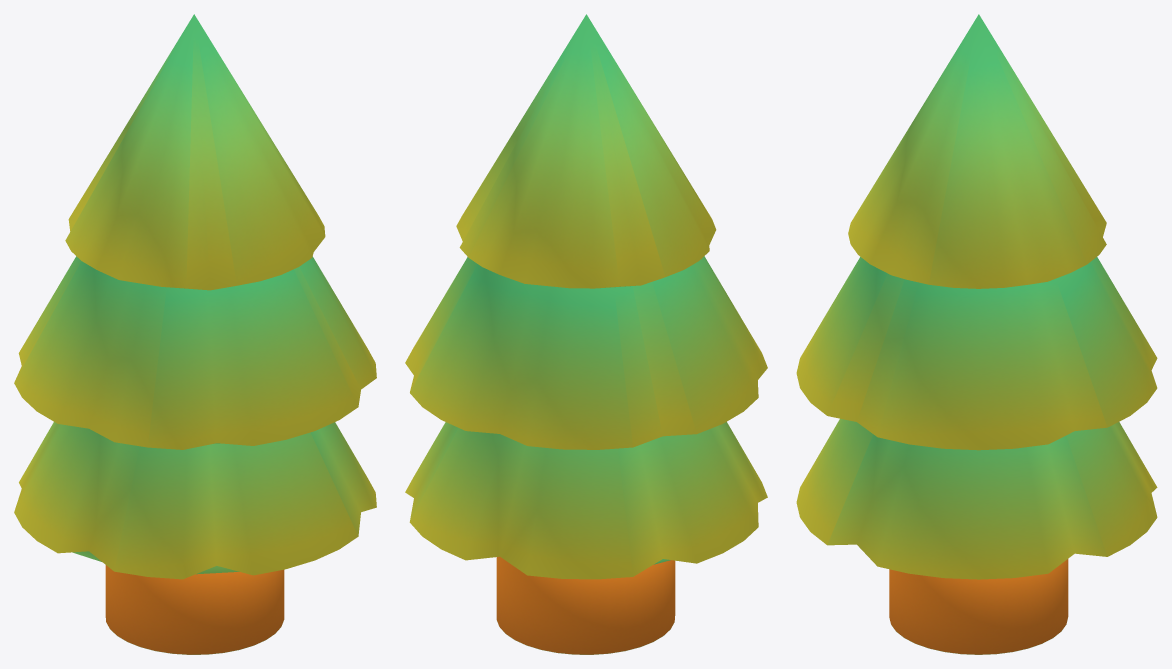
Rendered from tree_01.glb.
The picture shows the model from 3 angles, left to right: view 1: azimuth 30°, elevation 25°; view 2: azimuth 150°, elevation 25°; view 3: azimuth 270°, elevation 25°; orthographic projection.
Parts seen in each view (by area): view 1: Tree_01; view 2: Tree_01; view 3: Tree_01.
Part boxes in pixels (x1,y1,x2,y2): Tree_01: (14, 14, 376, 654); Tree_01: (405, 14, 767, 654); Tree_01: (796, 14, 1157, 654).
Bounding box in the file's own units: 2 × 3.65 × 1.98.
1 material, 1 textured.
